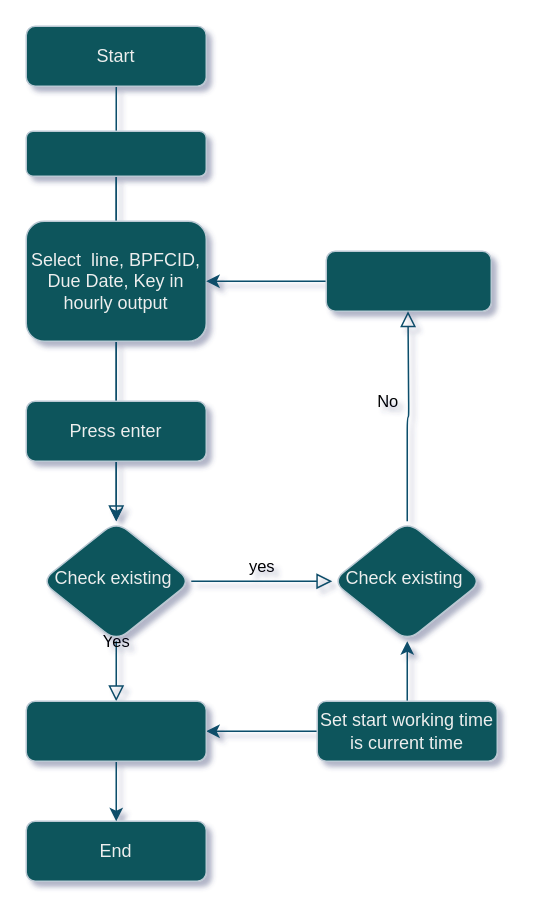
Image size: 533x917. Some labels were removed from this diagram. Each missing label, with the centre of its shape:
"Create" belongs at (x=115, y=153).
"Notify creating successfully" belongs at (x=115, y=730).
"Notify existing" belongs at (x=408, y=280).
